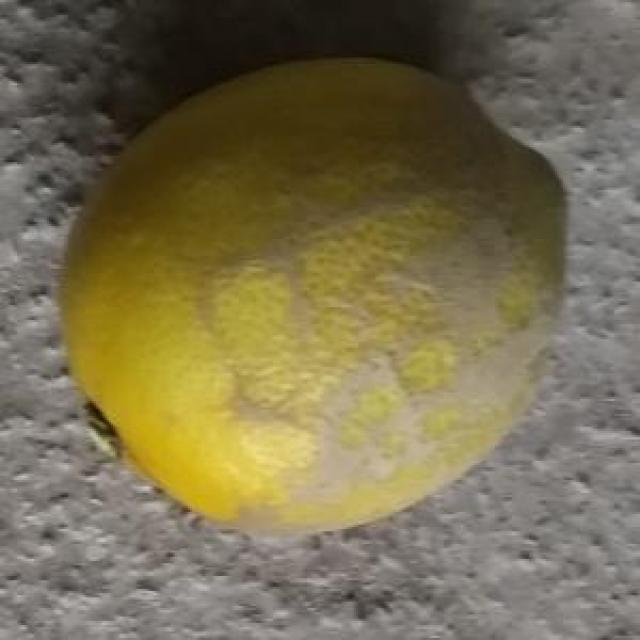lemon: (48, 52, 580, 540)
